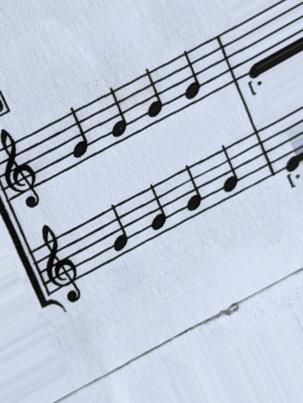G: (216, 140, 255, 203), (139, 61, 175, 124), (105, 81, 141, 142), (60, 107, 100, 161), (181, 160, 216, 219), (175, 44, 211, 101), (104, 203, 141, 254), (144, 185, 178, 237)
